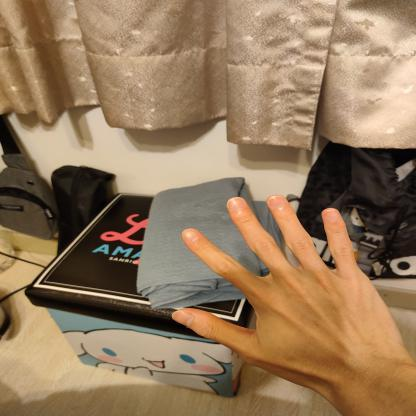bare_hand: (165, 181, 415, 415)
